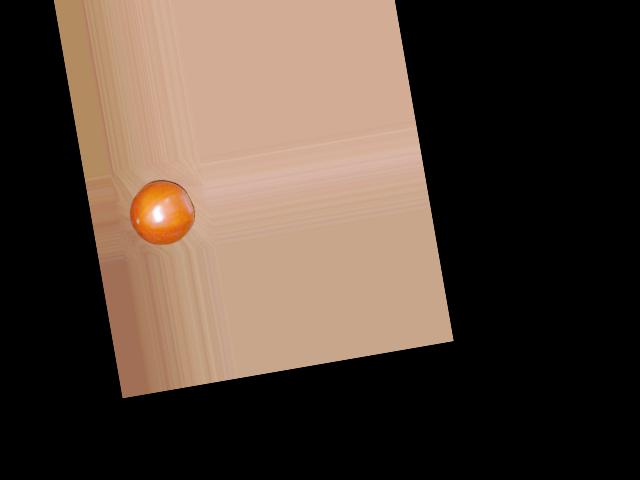tomato: (124, 175, 199, 250)
